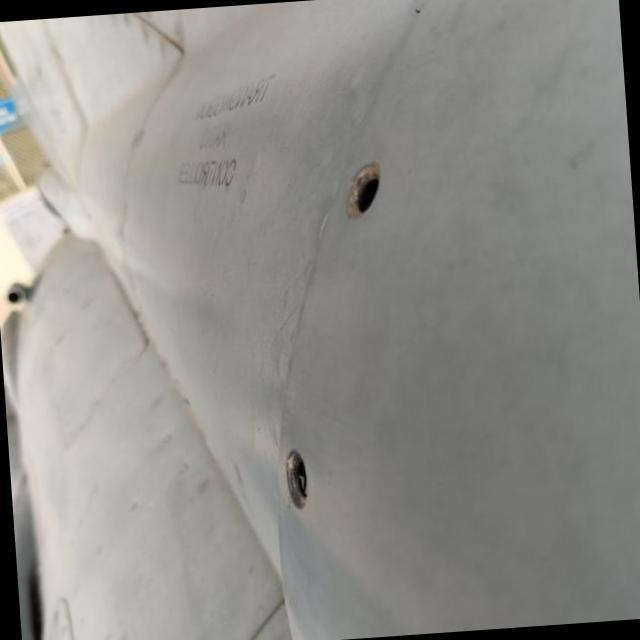Fastener Damage: (245, 413, 348, 532), (310, 132, 410, 242)
